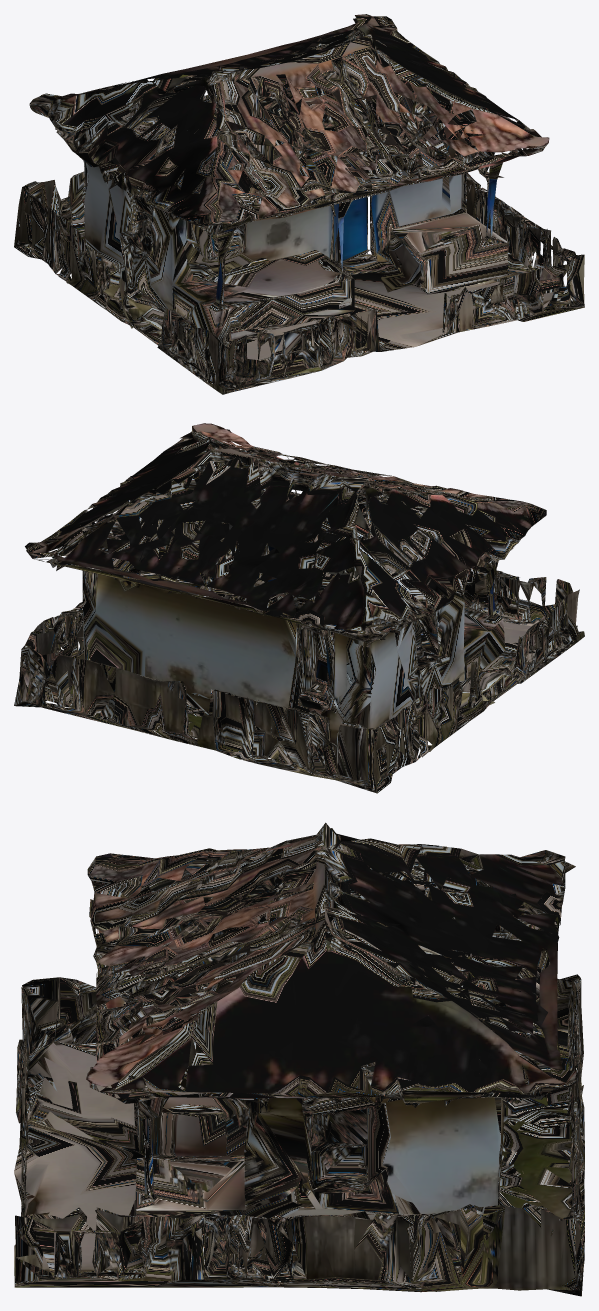
The model's file is house-1.glb.
3 views of the same model, one above another, from view 1: azimuth 30°, elevation 25°; view 2: azimuth 150°, elevation 25°; view 3: azimuth 270°, elevation 25° (orthographic). The views are drawn at different scales.
Parts seen in each view (by area): view 1: Indian House_Material_0_0; view 2: Indian House_Material_0_0; view 3: Indian House_Material_0_0.
Part boxes in pixels (x1,y1,x2,y2): Indian House_Material_0_0: (14, 14, 584, 394); Indian House_Material_0_0: (14, 423, 584, 793); Indian House_Material_0_0: (14, 822, 584, 1296).
Bounding box in the file's own units: 7.32 × 4.26 × 7.31.
Materials: 1 (1 with a texture image).
